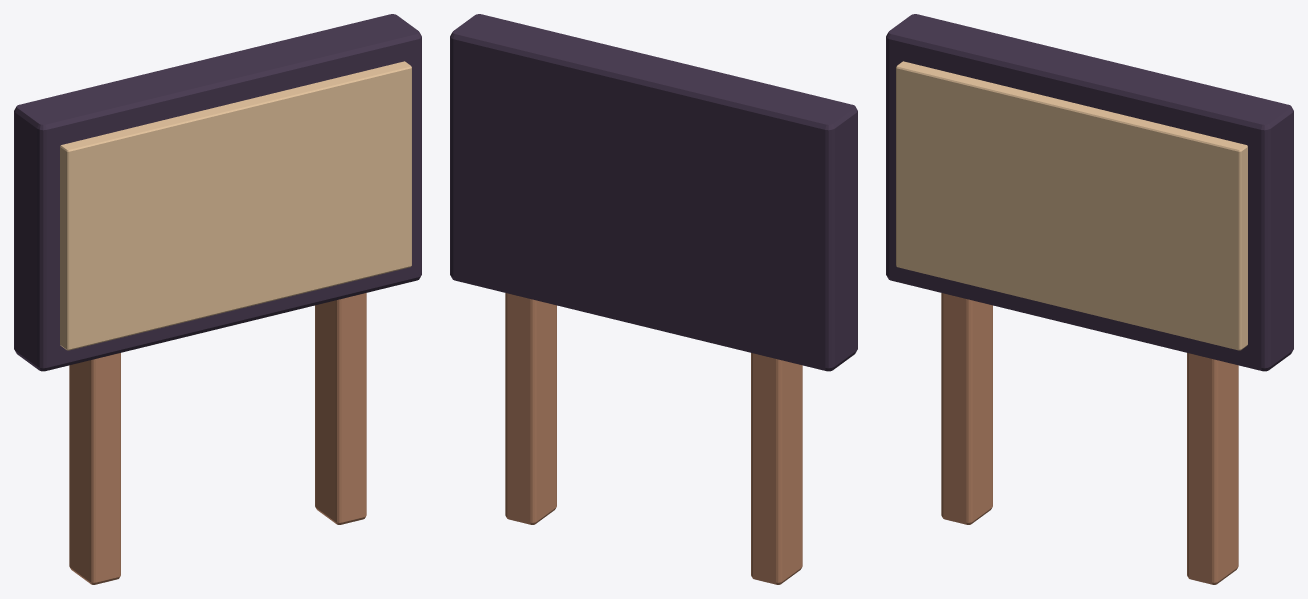
File: menu_sign_blank.glb
3 renders of one model, left to right at view 1: azimuth 30°, elevation 25°; view 2: azimuth 150°, elevation 25°; view 3: azimuth 330°, elevation 25°, orthographic.
Visible parts, largest first — view 1: panel, frame, model; view 2: frame, model; view 3: panel, frame, model.
Part boxes in pixels (x1=…): panel: x1=60, y1=61, x2=411, y2=350; frame: x1=14, y1=14, x2=421, y2=371; model: x1=69, y1=293, x2=366, y2=584; frame: x1=450, y1=14, x2=857, y2=371; model: x1=505, y1=293, x2=802, y2=584; panel: x1=896, y1=61, x2=1247, y2=350; frame: x1=886, y1=14, x2=1293, y2=371; model: x1=941, y1=293, x2=1238, y2=584.
Size of the model in its own units: 0.72 by 0.85 by 0.12.
